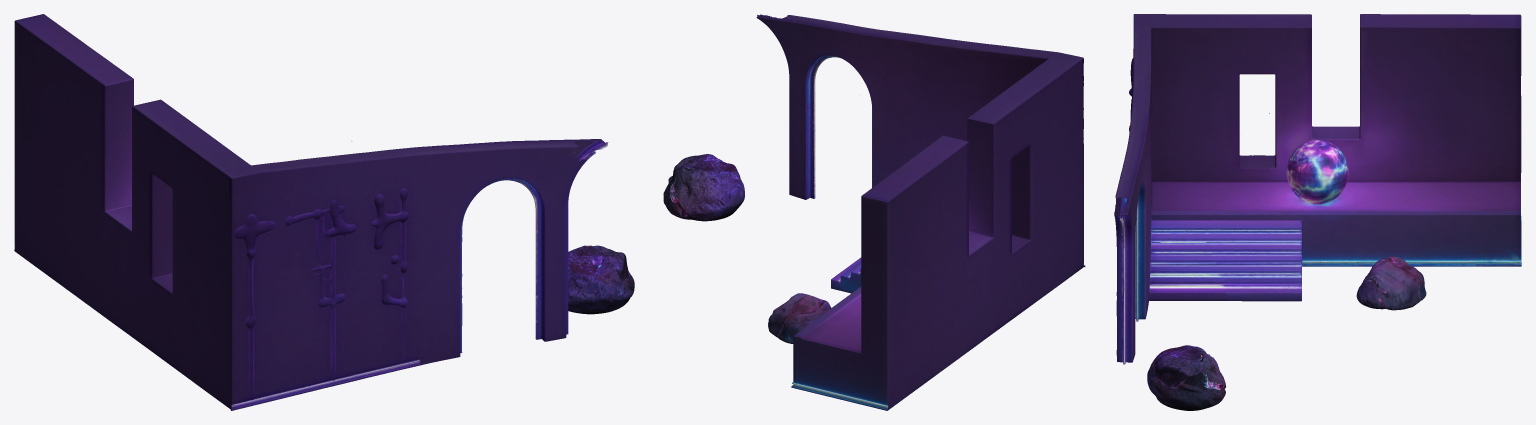
The model's file is edificio.glb.
3 renders of one model, left to right at view 1: azimuth 30°, elevation 25°; view 2: azimuth 150°, elevation 25°; view 3: azimuth 270°, elevation 25°, orthographic. The views are drawn at different scales.
Visible parts, largest first — view 1: tripo_node_9b6e733c-b186-405a-9066-868369025f38.019, tripo_node_9b6e733c-b186-405a-9066-868369025f38.017, tripo_node_9b6e733c-b186-405a-9066-868369025f38.024, tripo_node_9b6e733c-b186-405a-9066-868369025f38.650, tripo_node_9b6e733c-b186-405a-9066-868369025f38.028, tripo_node_9b6e733c-b186-405a-9066-868369025f38.776, tripo_node_9b6e733c-b186-405a-9066-868369025f38.021, tripo_node_9b6e733c-b186-405a-9066-868369025f38.016, tripo_node_9b6e733c-b186-405a-9066-868369025f38.002, tripo_node_9b6e733c-b186-405a-9066-868369025f38.003, tripo_node_9b6e733c-b186-405a-9066-868369025f38.302, tripo_node_9b6e733c-b186-405a-9066-868369025f38.552 (+26 smaller); view 2: tripo_node_9b6e733c-b186-405a-9066-868369025f38.019, tripo_node_9b6e733c-b186-405a-9066-868369025f38.017, tripo_node_9b6e733c-b186-405a-9066-868369025f38.650, tripo_node_9b6e733c-b186-405a-9066-868369025f38.776, tripo_node_9b6e733c-b186-405a-9066-868369025f38.024, tripo_node_9b6e733c-b186-405a-9066-868369025f38.423, tripo_node_9b6e733c-b186-405a-9066-868369025f38.1030, tripo_node_9b6e733c-b186-405a-9066-868369025f38.002, tripo_node_9b6e733c-b186-405a-9066-868369025f38.1186, tripo_node_9b6e733c-b186-405a-9066-868369025f38.302, tripo_node_9b6e733c-b186-405a-9066-868369025f38.036, tripo_node_9b6e733c-b186-405a-9066-868369025f38.552 (+33 smaller); view 3: tripo_node_9b6e733c-b186-405a-9066-868369025f38.019, tripo_node_9b6e733c-b186-405a-9066-868369025f38.683, tripo_node_9b6e733c-b186-405a-9066-868369025f38.039, tripo_node_9b6e733c-b186-405a-9066-868369025f38.776, tripo_node_9b6e733c-b186-405a-9066-868369025f38.551, tripo_node_9b6e733c-b186-405a-9066-868369025f38.050, tripo_node_9b6e733c-b186-405a-9066-868369025f38.1030, tripo_node_9b6e733c-b186-405a-9066-868369025f38.547, tripo_node_9b6e733c-b186-405a-9066-868369025f38.303, tripo_node_9b6e733c-b186-405a-9066-868369025f38.529, tripo_node_9b6e733c-b186-405a-9066-868369025f38.561, tripo_node_9b6e733c-b186-405a-9066-868369025f38.1092 (+46 smaller).
Boxes of the visible parts, bbox=[...] form: tripo_node_9b6e733c-b186-405a-9066-868369025f38.019: bbox=[174, 132, 381, 294]; tripo_node_9b6e733c-b186-405a-9066-868369025f38.017: bbox=[356, 144, 470, 275]; tripo_node_9b6e733c-b186-405a-9066-868369025f38.024: bbox=[186, 261, 279, 409]; tripo_node_9b6e733c-b186-405a-9066-868369025f38.650: bbox=[14, 115, 97, 274]; tripo_node_9b6e733c-b186-405a-9066-868369025f38.028: bbox=[280, 276, 381, 383]; tripo_node_9b6e733c-b186-405a-9066-868369025f38.776: bbox=[14, 14, 89, 129]; tripo_node_9b6e733c-b186-405a-9066-868369025f38.021: bbox=[367, 268, 439, 377]; tripo_node_9b6e733c-b186-405a-9066-868369025f38.016: bbox=[414, 183, 471, 364]; tripo_node_9b6e733c-b186-405a-9066-868369025f38.002: bbox=[462, 140, 578, 202]; tripo_node_9b6e733c-b186-405a-9066-868369025f38.003: bbox=[533, 148, 571, 291]; tripo_node_9b6e733c-b186-405a-9066-868369025f38.302: bbox=[107, 277, 168, 360]; tripo_node_9b6e733c-b186-405a-9066-868369025f38.552: bbox=[72, 171, 115, 286]; tripo_node_9b6e733c-b186-405a-9066-868369025f38.019: bbox=[953, 40, 1083, 199]; tripo_node_9b6e733c-b186-405a-9066-868369025f38.017: bbox=[864, 28, 955, 148]; tripo_node_9b6e733c-b186-405a-9066-868369025f38.650: bbox=[888, 214, 962, 374]; tripo_node_9b6e733c-b186-405a-9066-868369025f38.776: bbox=[861, 164, 935, 272]; tripo_node_9b6e733c-b186-405a-9066-868369025f38.024: bbox=[1043, 161, 1083, 289]; tripo_node_9b6e733c-b186-405a-9066-868369025f38.423: bbox=[967, 104, 1014, 199]; tripo_node_9b6e733c-b186-405a-9066-868369025f38.1030: bbox=[861, 217, 903, 323]; tripo_node_9b6e733c-b186-405a-9066-868369025f38.002: bbox=[782, 15, 872, 71]; tripo_node_9b6e733c-b186-405a-9066-868369025f38.1186: bbox=[815, 336, 890, 405]; tripo_node_9b6e733c-b186-405a-9066-868369025f38.302: bbox=[972, 261, 1027, 342]; tripo_node_9b6e733c-b186-405a-9066-868369025f38.036: bbox=[685, 154, 743, 220]; tripo_node_9b6e733c-b186-405a-9066-868369025f38.552: bbox=[940, 232, 979, 331]; tripo_node_9b6e733c-b186-405a-9066-868369025f38.019: bbox=[1129, 14, 1240, 181]; tripo_node_9b6e733c-b186-405a-9066-868369025f38.683: bbox=[1376, 59, 1516, 203]; tripo_node_9b6e733c-b186-405a-9066-868369025f38.039: bbox=[1149, 247, 1301, 301]; tripo_node_9b6e733c-b186-405a-9066-868369025f38.776: bbox=[1398, 14, 1521, 85]; tripo_node_9b6e733c-b186-405a-9066-868369025f38.551: bbox=[1337, 217, 1500, 266]; tripo_node_9b6e733c-b186-405a-9066-868369025f38.050: bbox=[1155, 147, 1263, 210]; tripo_node_9b6e733c-b186-405a-9066-868369025f38.1030: bbox=[1446, 46, 1521, 133]; tripo_node_9b6e733c-b186-405a-9066-868369025f38.547: bbox=[1324, 154, 1413, 210]; tripo_node_9b6e733c-b186-405a-9066-868369025f38.303: bbox=[1274, 47, 1311, 159]; tripo_node_9b6e733c-b186-405a-9066-868369025f38.529: bbox=[1297, 214, 1375, 257]; tripo_node_9b6e733c-b186-405a-9066-868369025f38.561: bbox=[1360, 14, 1396, 100]; tripo_node_9b6e733c-b186-405a-9066-868369025f38.1092: bbox=[1460, 219, 1521, 260].
Bounding box in the file's own units: 0.9825 × 0.5192 × 0.9024.
1 material, 1 textured.
